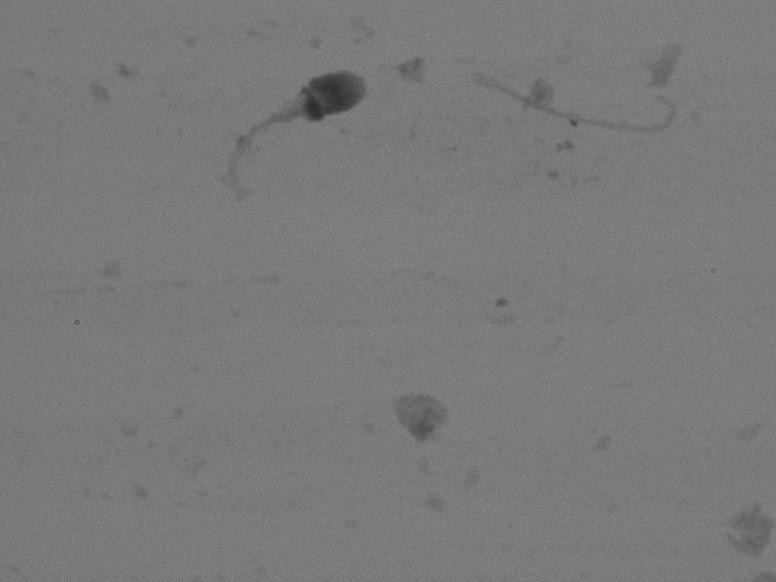Abnormal: (183, 30, 388, 236)
